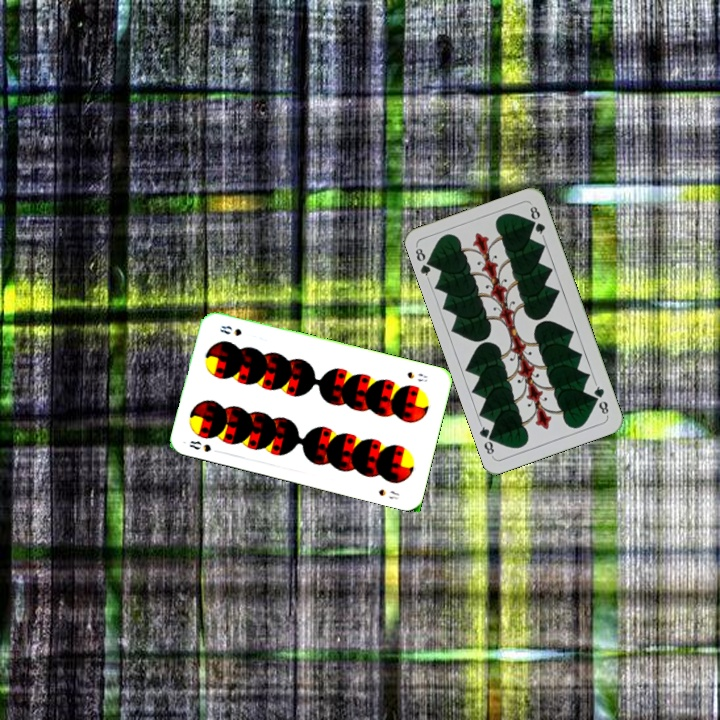G8: (411, 243, 437, 282), (590, 379, 611, 419)
S8: (185, 436, 224, 456), (403, 368, 430, 384)
